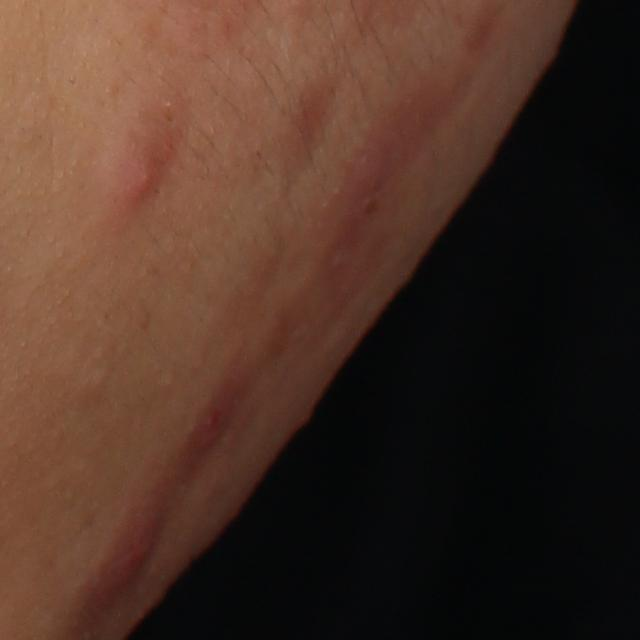comedo: (82, 366, 113, 394)
papule: (87, 504, 174, 613), (102, 113, 182, 209), (189, 403, 237, 458)
